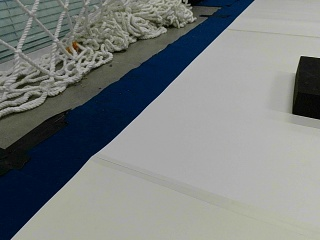block: (293, 56, 318, 119)
